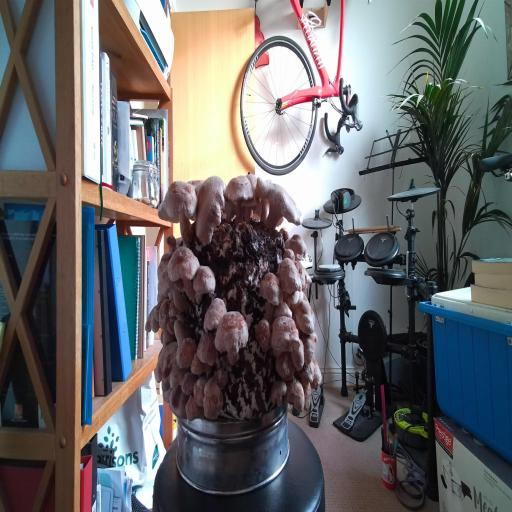Shiitake Mushroom: (150, 166, 217, 248), (240, 174, 319, 243), (153, 236, 219, 306), (140, 332, 201, 407), (204, 299, 260, 373), (188, 167, 230, 250), (213, 164, 265, 227), (146, 263, 203, 317), (248, 263, 294, 321), (239, 165, 278, 225), (165, 331, 208, 376), (195, 291, 233, 340), (287, 293, 325, 342), (274, 252, 304, 302), (187, 259, 219, 305), (193, 327, 223, 371), (183, 351, 218, 386), (151, 199, 185, 235), (271, 346, 300, 388), (282, 373, 311, 414), (284, 337, 315, 374), (234, 187, 262, 226), (279, 281, 311, 314), (271, 316, 300, 352), (139, 306, 168, 340), (290, 254, 315, 292), (203, 376, 224, 421), (280, 230, 312, 259), (151, 246, 177, 281), (253, 315, 275, 355), (167, 382, 190, 420), (267, 374, 290, 411), (177, 366, 200, 400), (163, 299, 187, 328), (184, 167, 207, 196), (184, 392, 205, 422), (158, 298, 175, 335), (173, 315, 193, 345), (191, 373, 207, 408), (300, 332, 316, 365), (161, 231, 181, 256), (310, 357, 324, 391), (272, 300, 293, 319), (298, 361, 315, 384), (152, 294, 165, 322), (302, 381, 312, 411), (161, 329, 175, 349), (160, 384, 173, 404)
